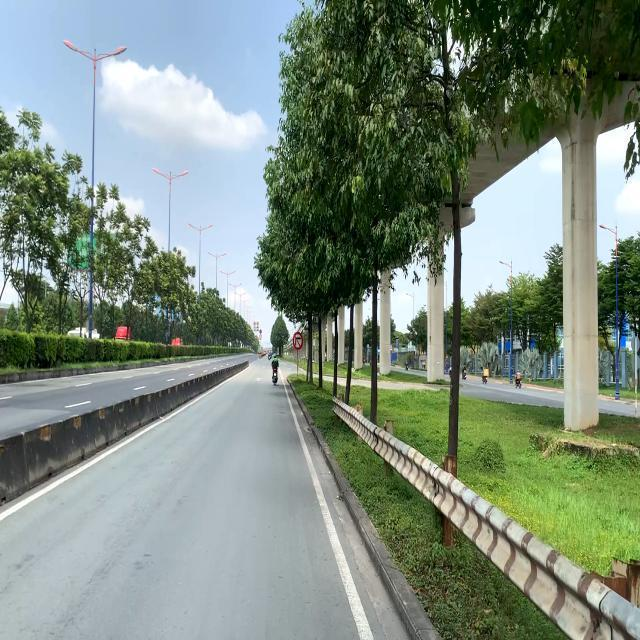123b-cam-re-phai: (292, 330, 303, 350)
